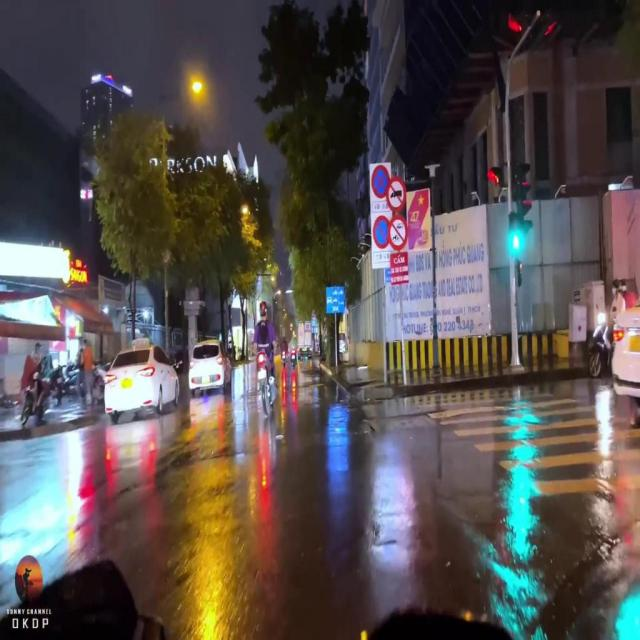cam_cac_loai_xe_3_banh: (388, 216, 408, 250)
cam_do_xe: (373, 215, 390, 248)
cam_dung_xe_va_do_xe: (372, 166, 390, 198)
cam_o_to_tai: (387, 177, 406, 212)
lan_duong_cho_tung_xe_theo_vach_ke_duong: (327, 287, 344, 312)
